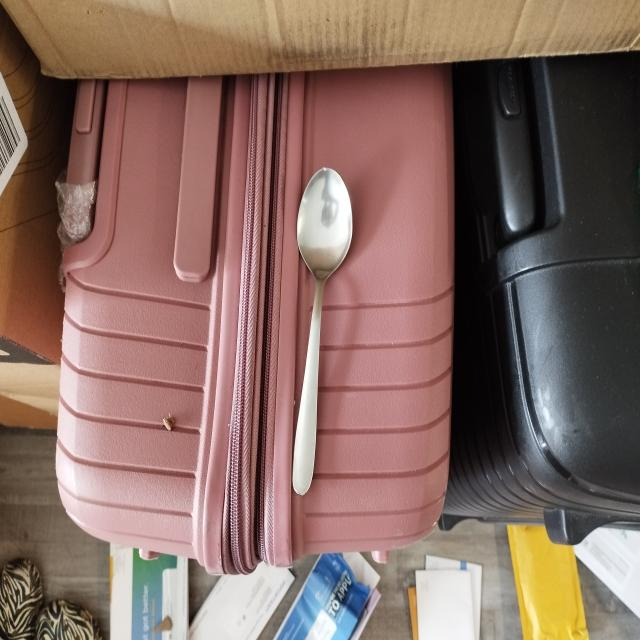Spoon: (266, 157, 380, 507)
